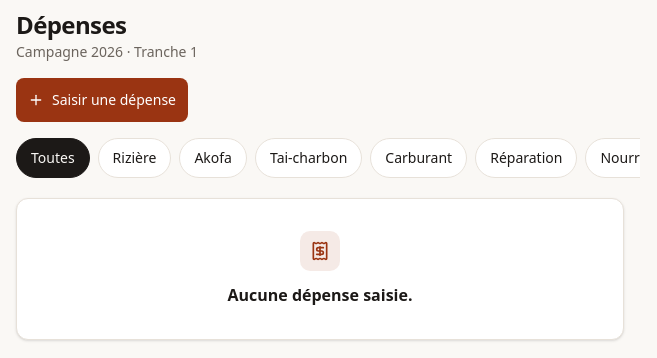
Test: ExpensesPage › filters by category with the API query
The width and height of the screenshot is (657, 358).
Check: the text "Aucune dépense saisie." is shown, box x1=228 y1=283 x2=412 y2=307
Click the radio button labelled "Rizière": coordinates (134, 158) x1=98 y1=138 x2=171 y2=178
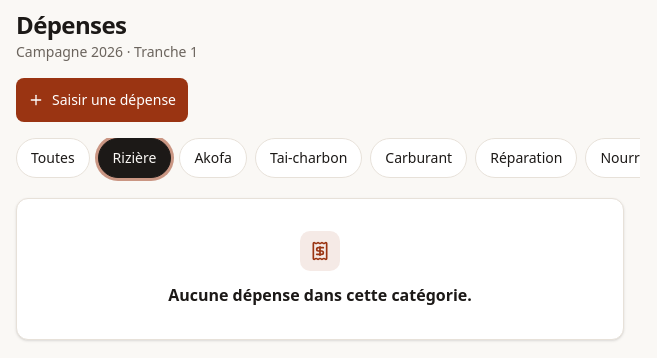
Check: the text "Aucune dépense dans cette catégorie." is shown, box x1=168 y1=283 x2=472 y2=307
